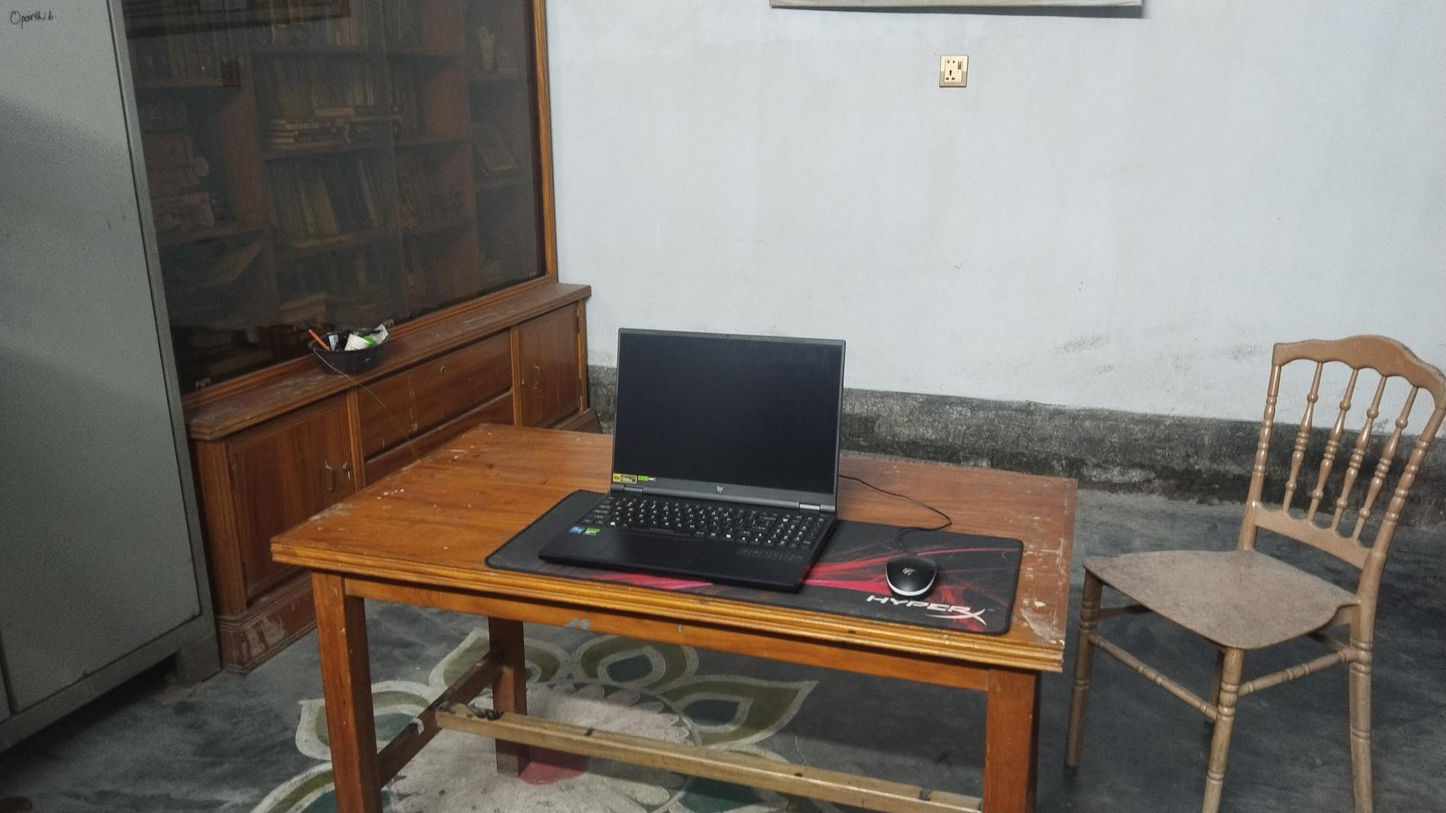Chair: (1071, 329, 1446, 801)
Laptop: (539, 323, 850, 584)
Mouse: (885, 552, 938, 600)
Table: (271, 417, 1080, 813)
